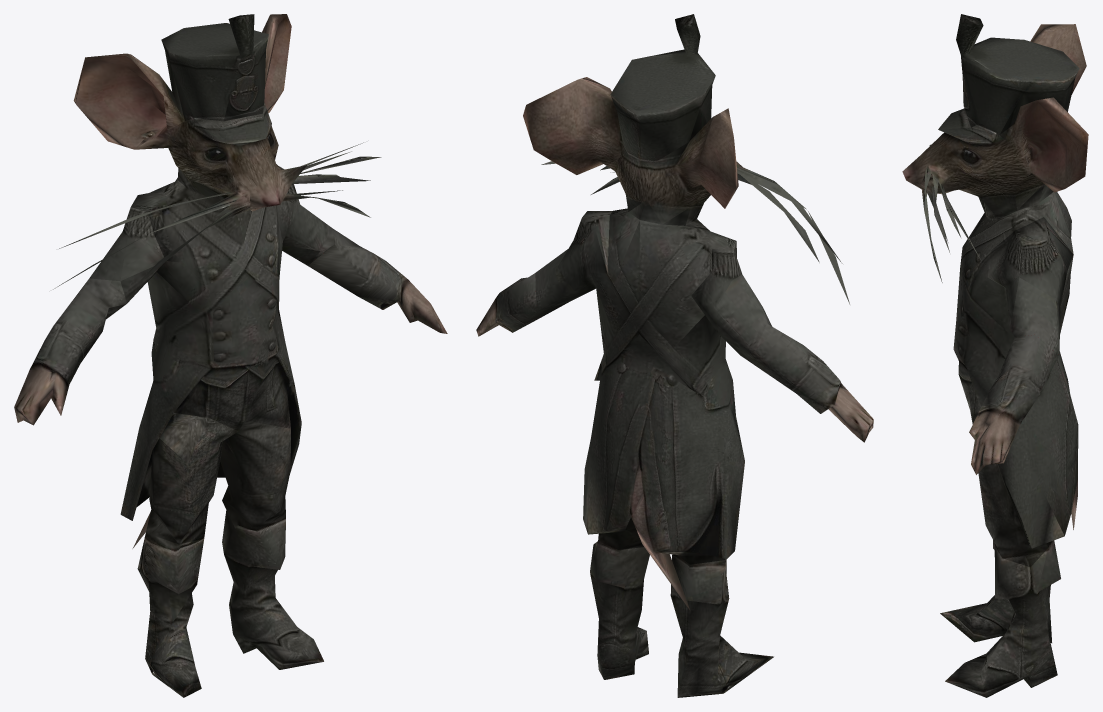
Rendered from infantry_mix_gibs.glb.
3 views of the same model, side by side, from view 1: azimuth 30°, elevation 25°; view 2: azimuth 150°, elevation 25°; view 3: azimuth 270°, elevation 25° (orthographic). The views are drawn at different scales.
Parts seen in each view (by area): view 1: body.001, Head.001, Hat.001, Leg.L.001, Upleg.R.001, Leg.R.001, Forarm.R.001, Upleg.L.001, Forarm.L.001, Arm.R.001, Arm.L.001; view 2: body.001, Head.001, Hat.001, Leg.R.001, Leg.L.001, Forarm.R.001, Arm.R.001, Arm.L.001, Forarm.L.001, Upleg.L.001; view 3: body.001, Head.001, Hat.001, Leg.L.001, Arm.L.001, Forarm.L.001, Upleg.L.001, Leg.R.001.
Part boxes in pixels (x1,y1,x2,y2): body.001: (120, 177, 301, 548); Head.001: (53, 14, 381, 289); Hat.001: (161, 14, 268, 121); Leg.L.001: (222, 510, 323, 669); Upleg.R.001: (146, 413, 238, 544); Leg.R.001: (137, 533, 203, 697); Forarm.R.001: (14, 278, 126, 425); Upleg.L.001: (220, 420, 290, 530); Forarm.L.001: (308, 228, 447, 333); Arm.R.001: (89, 207, 163, 303); Arm.L.001: (275, 166, 334, 265); body.001: (583, 208, 744, 610); Head.001: (523, 77, 849, 304); Hat.001: (610, 14, 715, 162); Leg.R.001: (670, 554, 773, 697); Leg.L.001: (590, 541, 649, 679); Forarm.R.001: (740, 308, 873, 442); Arm.R.001: (691, 241, 766, 355); Arm.L.001: (535, 211, 612, 311); Forarm.L.001: (476, 273, 568, 336); Upleg.L.001: (597, 517, 643, 549); body.001: (953, 192, 1078, 548); Head.001: (902, 24, 1088, 282); Hat.001: (956, 14, 1079, 134); Leg.L.001: (945, 540, 1060, 697); Arm.L.001: (988, 217, 1073, 354); Forarm.L.001: (969, 335, 1059, 474); Upleg.L.001: (978, 464, 1051, 567); Leg.R.001: (940, 540, 1051, 643).
Size of the model in its own units: 0.6393 by 0.98 by 0.2562.
2 materials, 1 textured.
